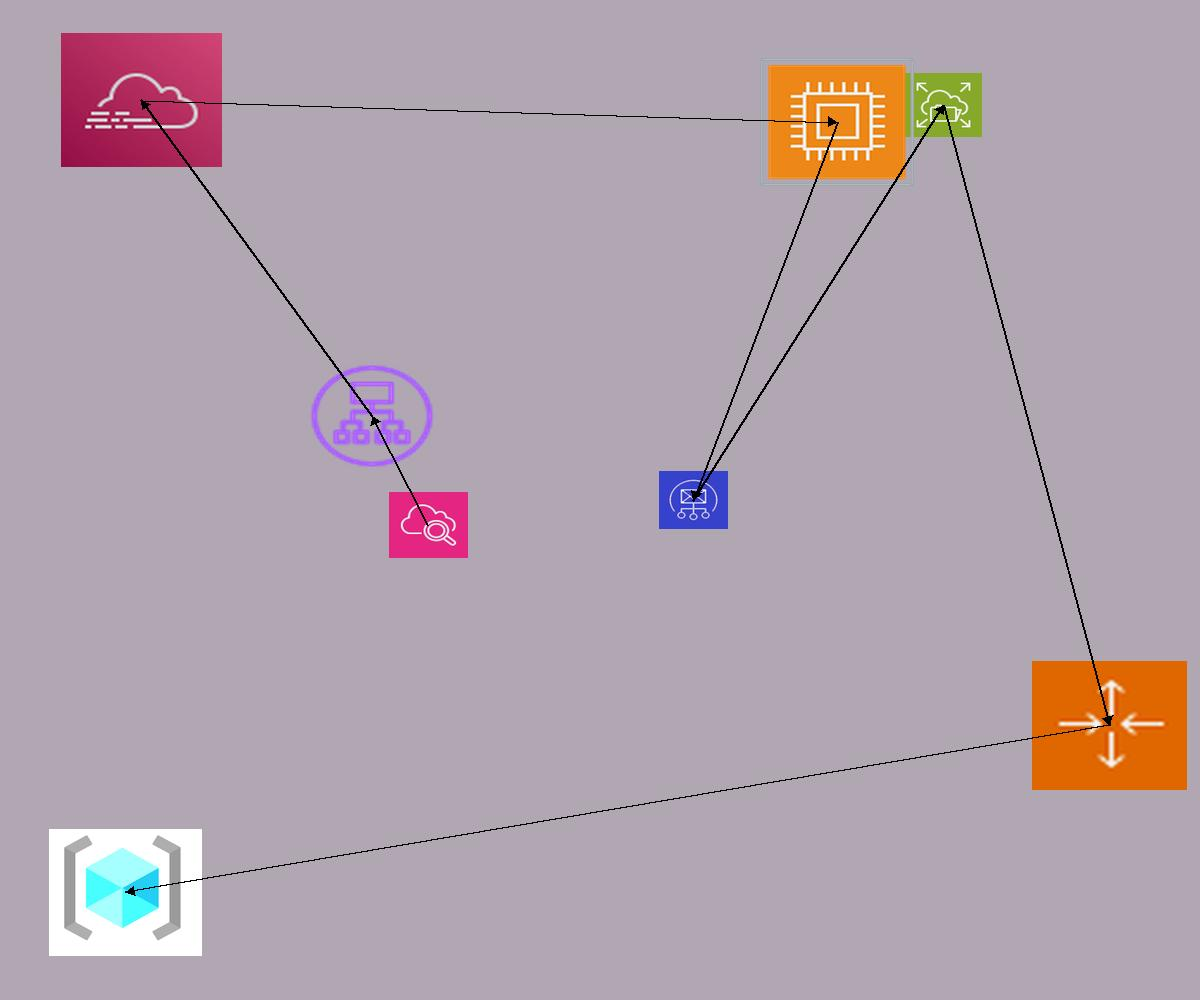AWS-Category_Compute: (760, 58, 914, 186)
AWS-CloudTrail: (61, 33, 222, 167)
AWS-CloudWatch: (389, 492, 468, 558)
AWS-EFS: (905, 73, 982, 137)
AWS-Res_Elastic-Load-Balancing_Application-Load-Balancer: (306, 361, 438, 471)
AWS-Scaling-group: (1032, 661, 1187, 790)
AWS-Simple-Email-Service: (659, 471, 728, 529)
Azure_resource_group: (49, 829, 202, 956)
